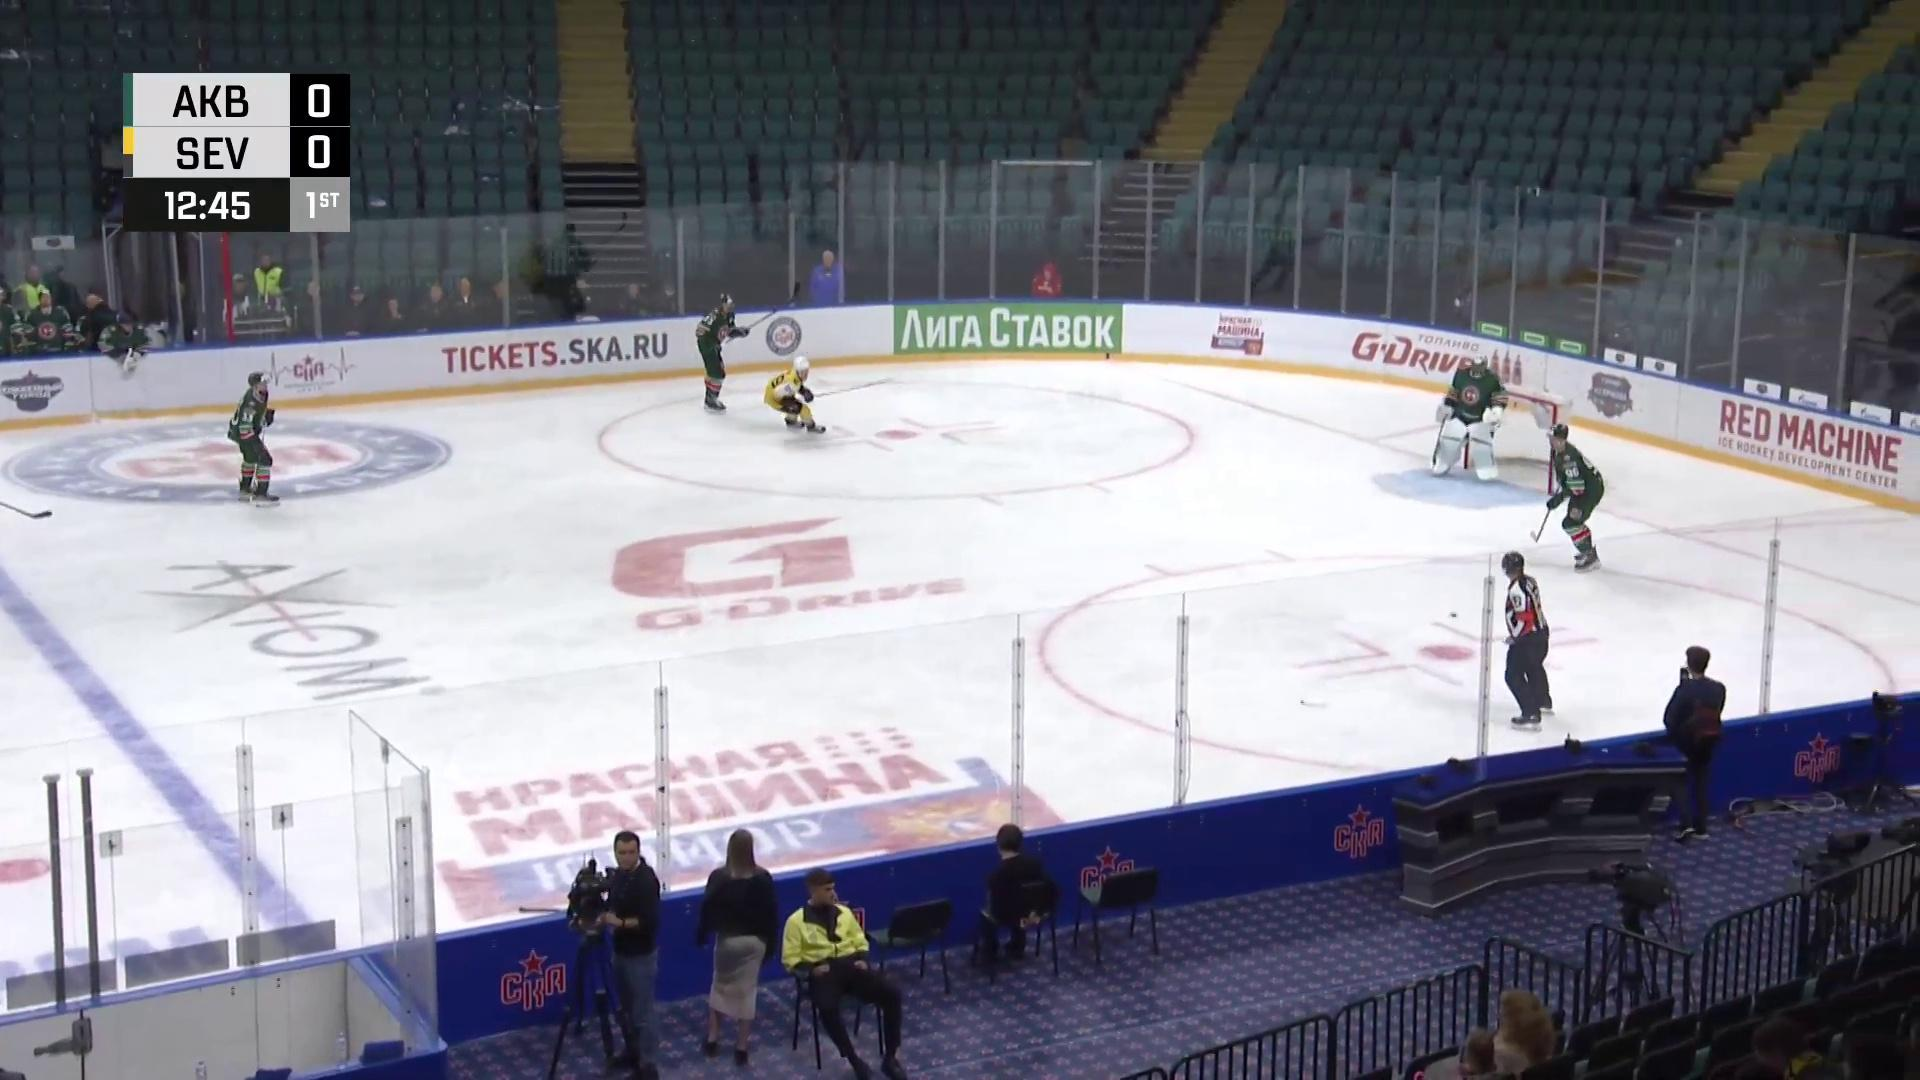ball: (1448, 611, 1458, 618)
